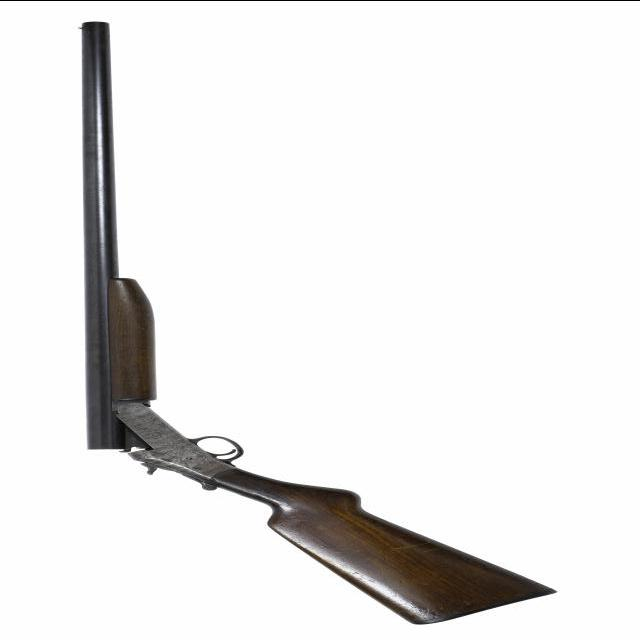shotgun: (45, 1, 568, 628)
